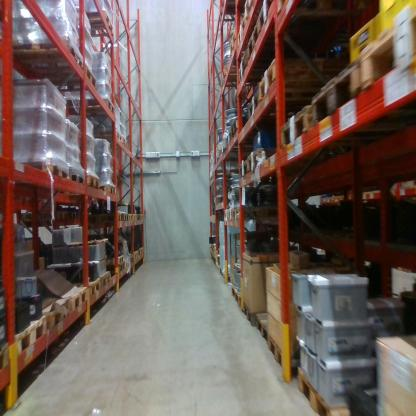pallet: (359, 0, 415, 93), (292, 358, 378, 415), (257, 0, 361, 36), (309, 58, 361, 127), (259, 58, 346, 96), (19, 64, 104, 100), (6, 42, 88, 73), (9, 160, 71, 197), (246, 20, 305, 58), (267, 323, 306, 380), (278, 102, 320, 151), (60, 10, 119, 40), (248, 146, 300, 177), (14, 315, 53, 355), (237, 50, 277, 88), (57, 93, 118, 116), (231, 207, 294, 229), (12, 207, 71, 230), (256, 311, 288, 351), (46, 294, 74, 334), (81, 209, 125, 230), (218, 65, 249, 94), (62, 283, 88, 317), (248, 89, 275, 121), (225, 131, 257, 152), (1, 338, 19, 373), (230, 116, 255, 141), (235, 16, 254, 48), (218, 1, 245, 23), (228, 26, 249, 53), (63, 169, 87, 192), (220, 139, 246, 160), (241, 304, 262, 329), (85, 276, 102, 302), (243, 0, 264, 21), (85, 132, 123, 143), (237, 155, 255, 178), (230, 285, 246, 310), (99, 269, 113, 294), (83, 173, 102, 191), (98, 185, 119, 199), (106, 252, 124, 266), (223, 205, 234, 222), (68, 209, 80, 223), (116, 261, 126, 272), (131, 251, 140, 262), (129, 211, 135, 226), (215, 261, 223, 272), (125, 255, 134, 264), (122, 137, 127, 151), (124, 211, 129, 225), (138, 245, 144, 256), (211, 169, 216, 179), (140, 212, 144, 224), (137, 210, 141, 222), (133, 211, 137, 222)
